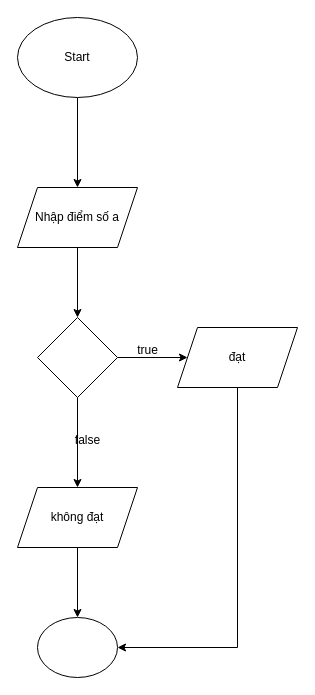
Some shapes in this 315 by 695 pixel diagram are drawn without their labels. The shapes that lost their labels are listed below. From the top down, each one's centre as x and y in pixels, then its label:
point (77, 357): a > 5
point (77, 647): end
